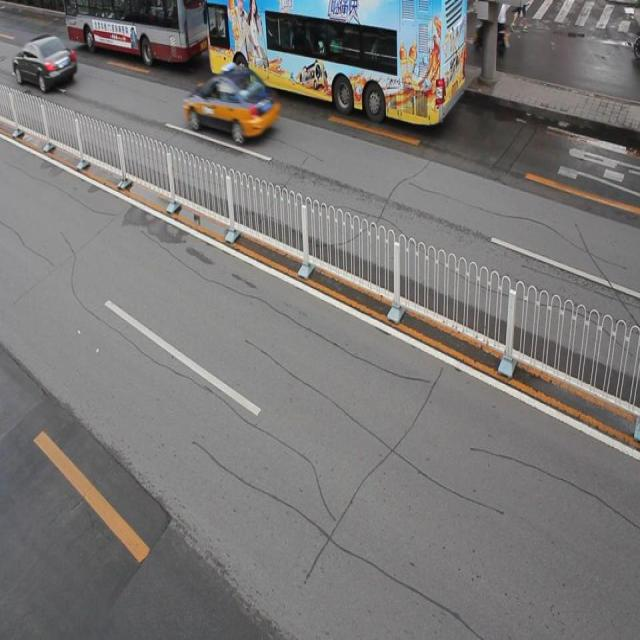car: (184, 65, 277, 145), (11, 31, 78, 91)
van: (207, 1, 466, 134), (65, 1, 210, 70)
